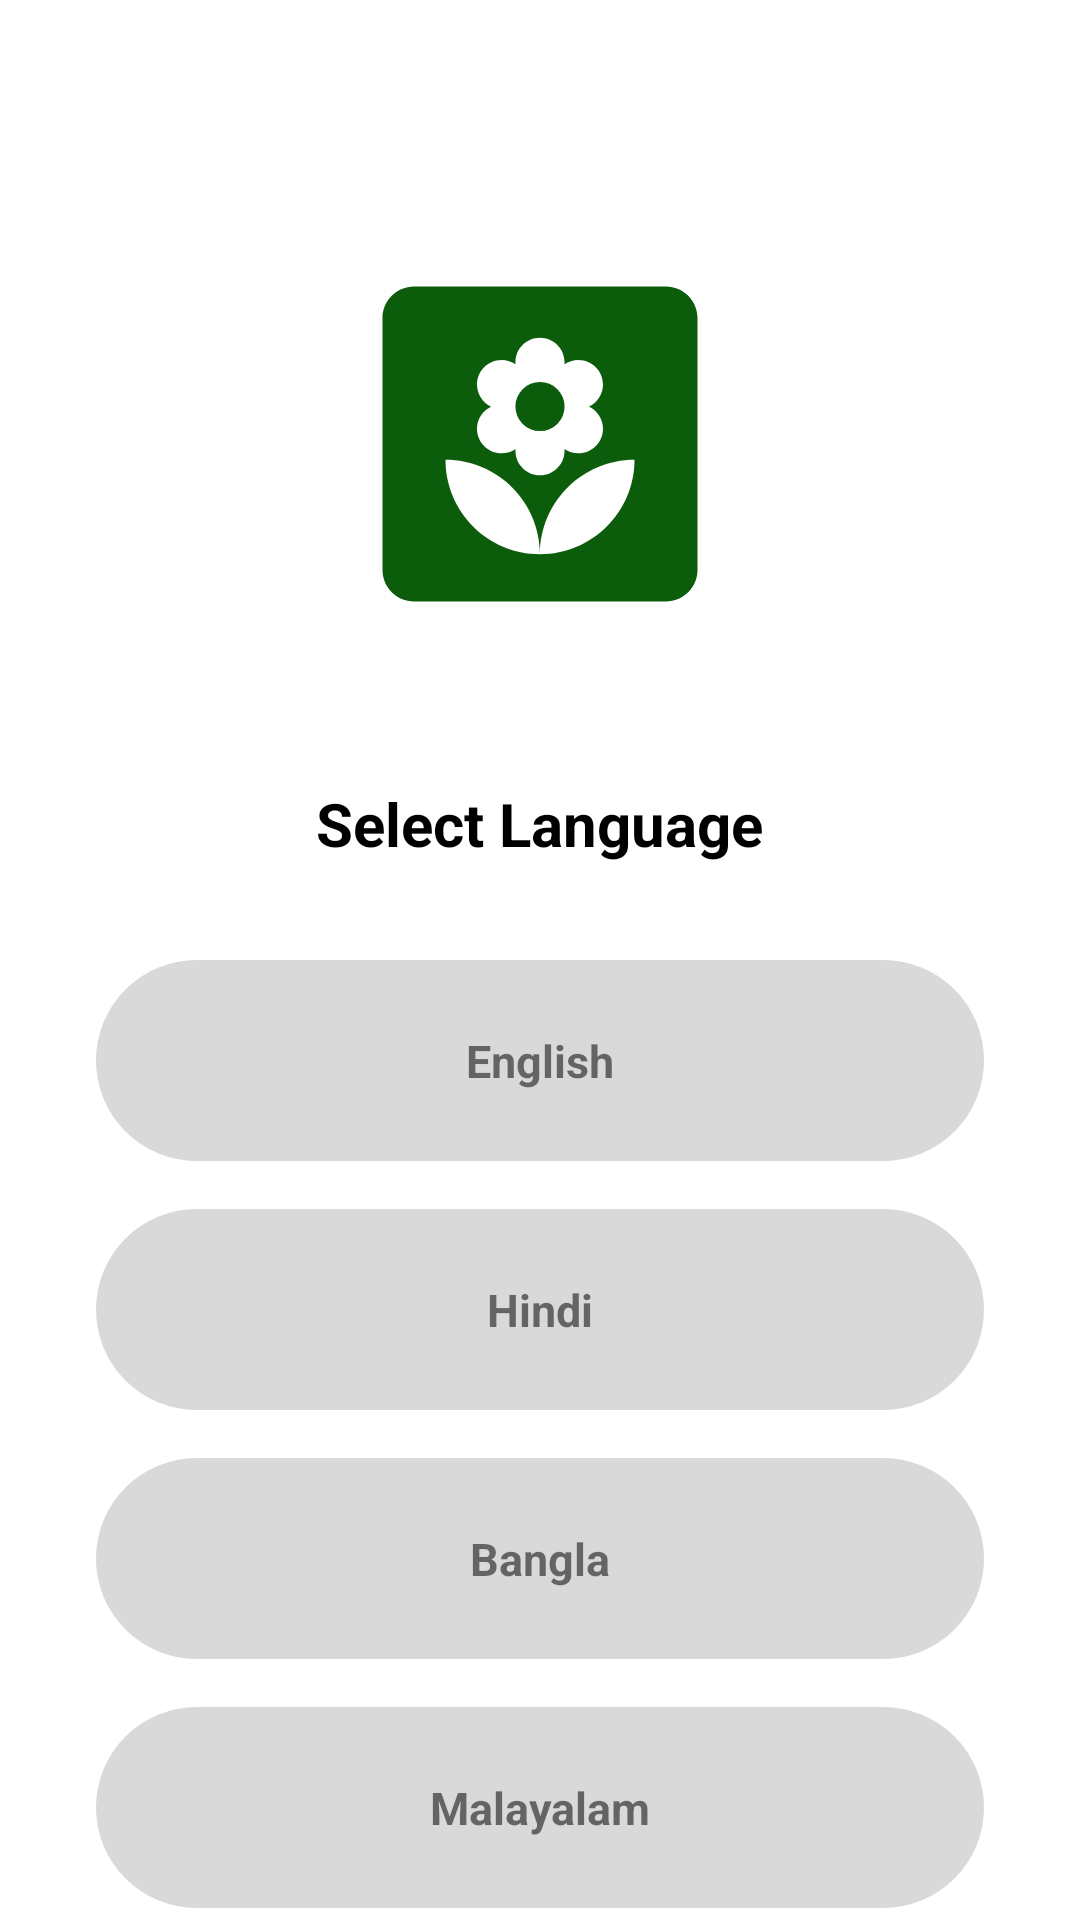

Named icons in this screenshot (1080px×1920px) and their centers, [x,y]:
yard: [540,444]
